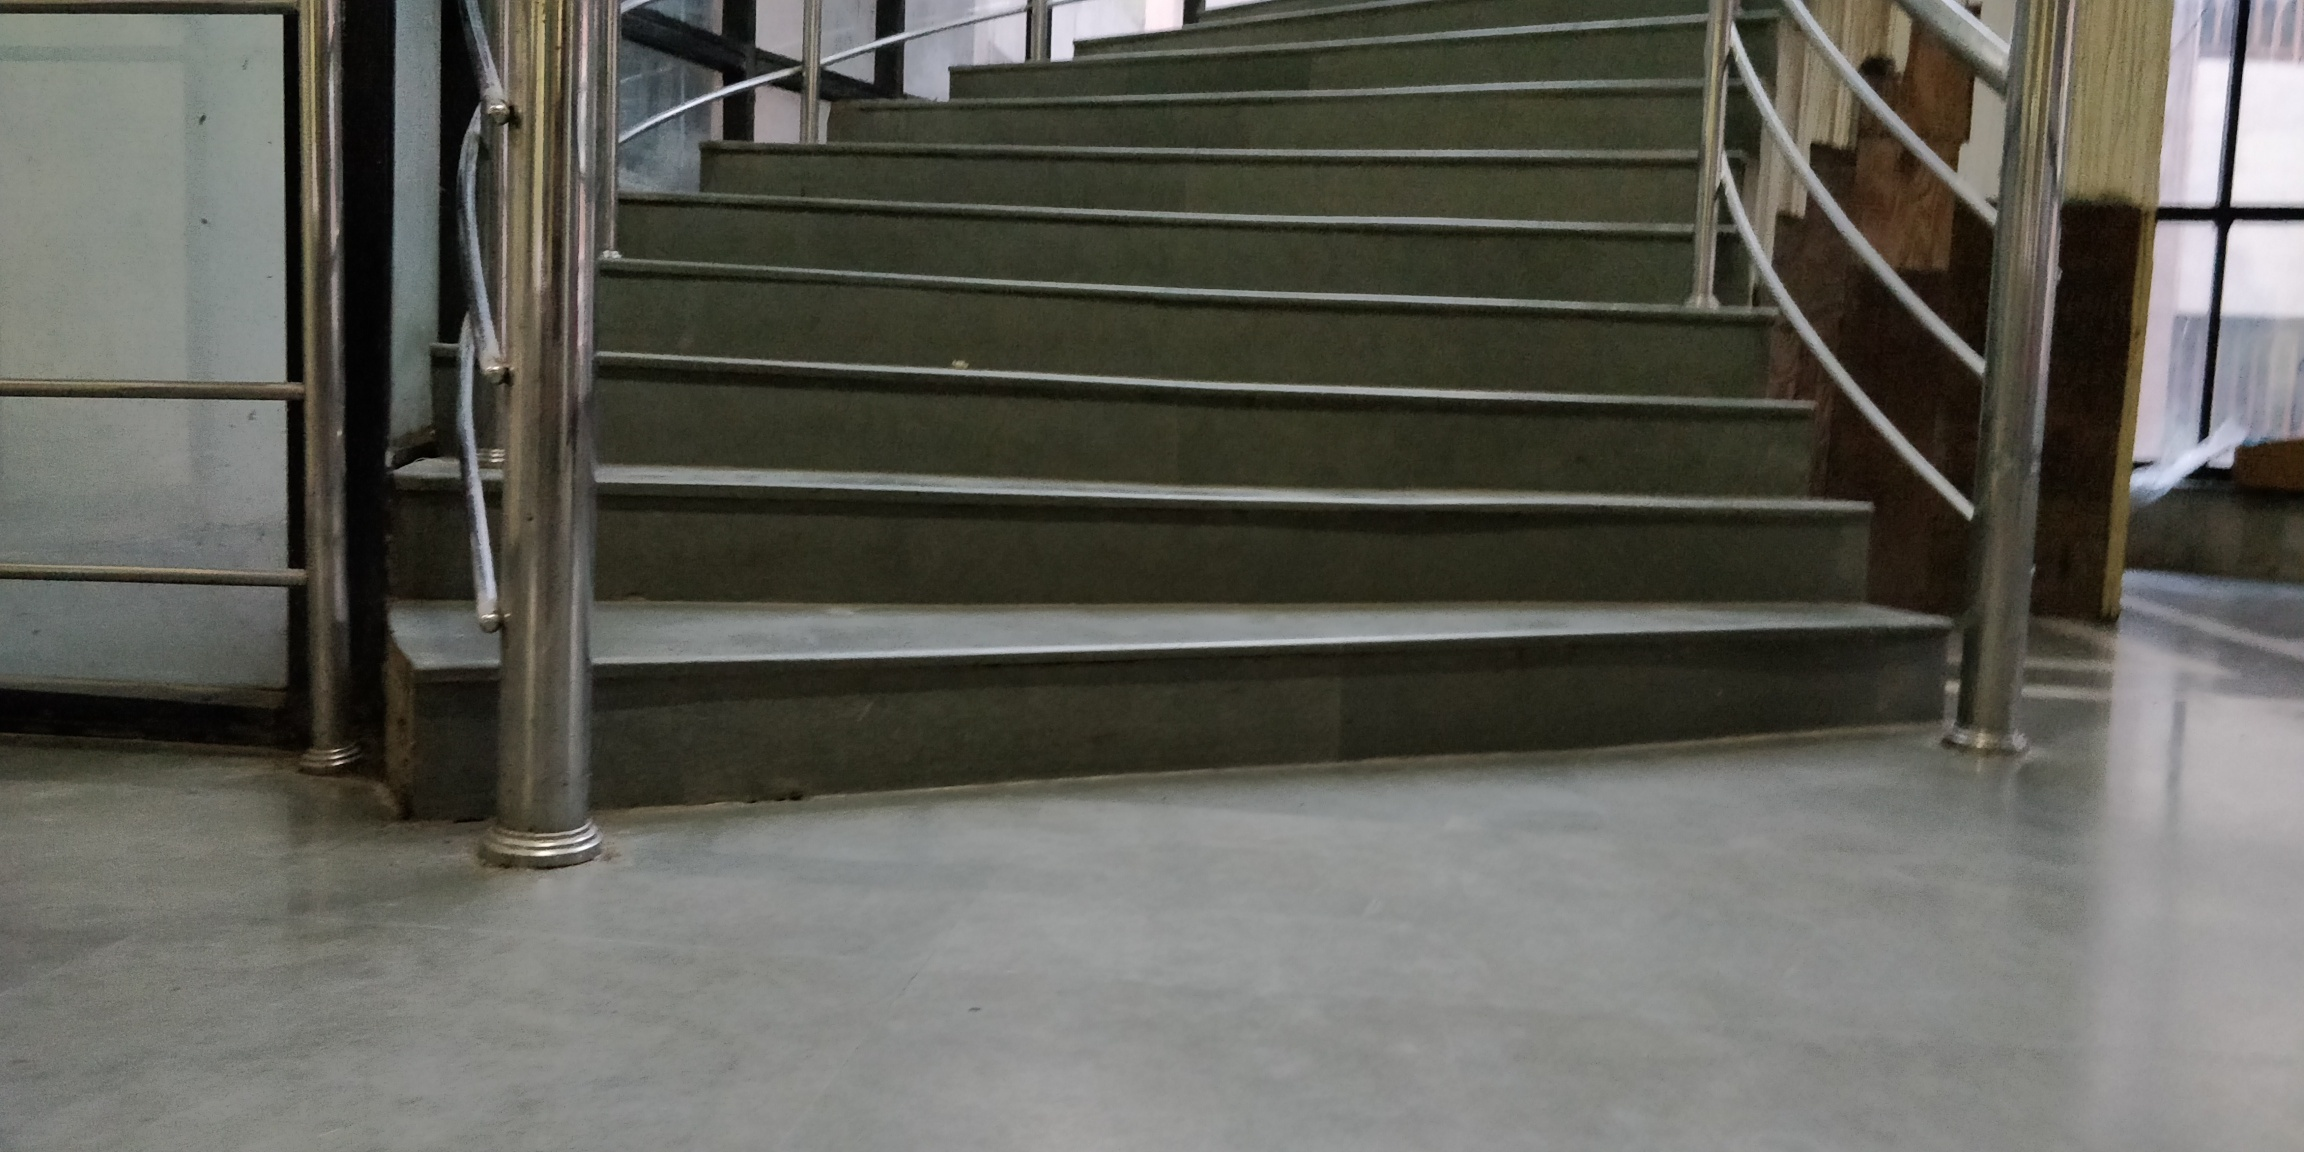stairs_up: (458, 44, 1990, 770)
